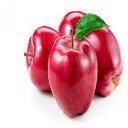apple: (23, 27, 67, 94)
